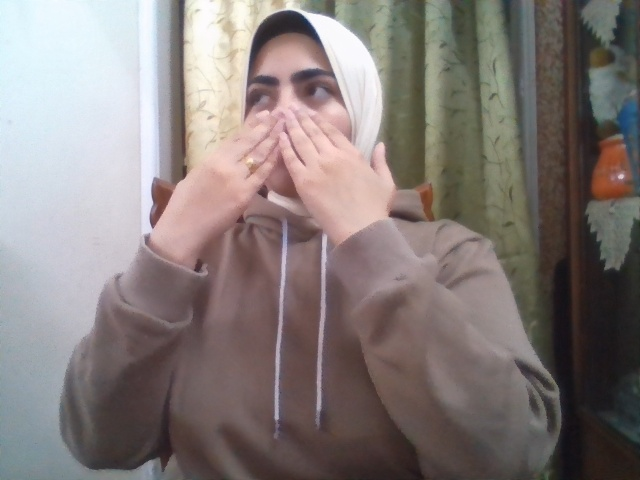thanks: (158, 104, 400, 241)
